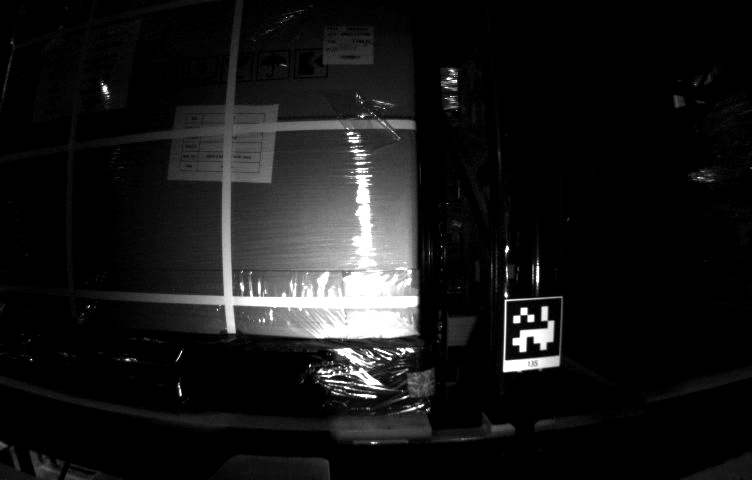True Barcode: (322, 28, 376, 65)
